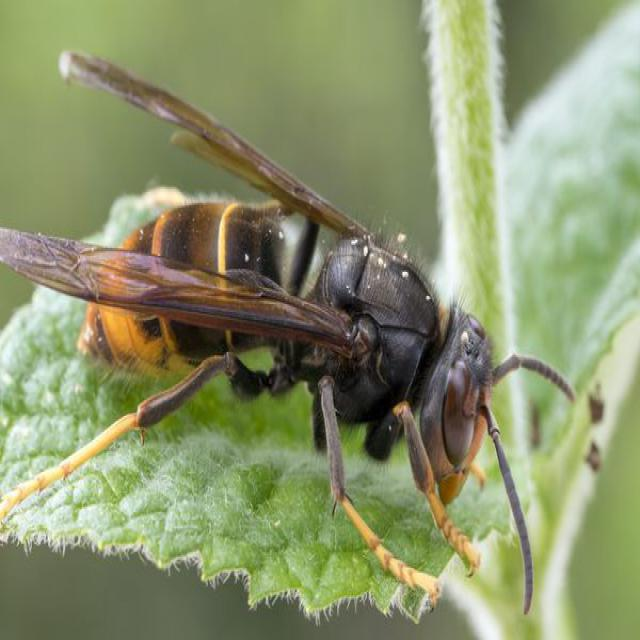Vespa Velutina: (0, 41, 579, 638)
